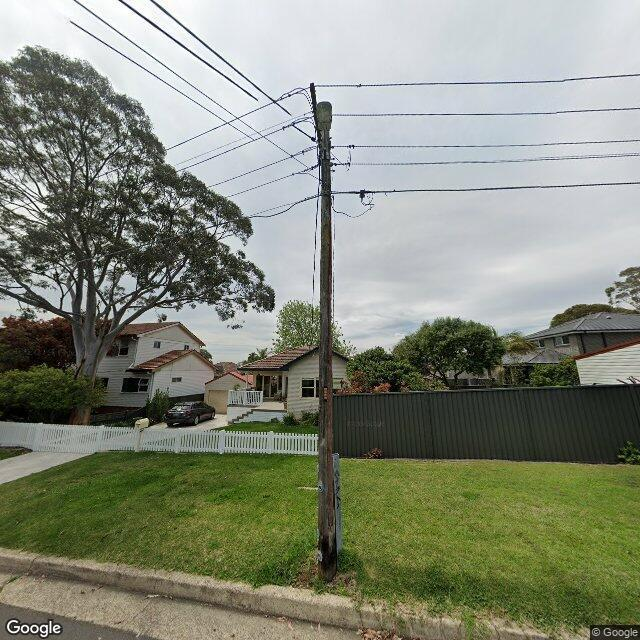crossarm: (310, 84, 322, 166)
streetlight: (314, 100, 332, 192)
timber-pole: (318, 137, 341, 581)
